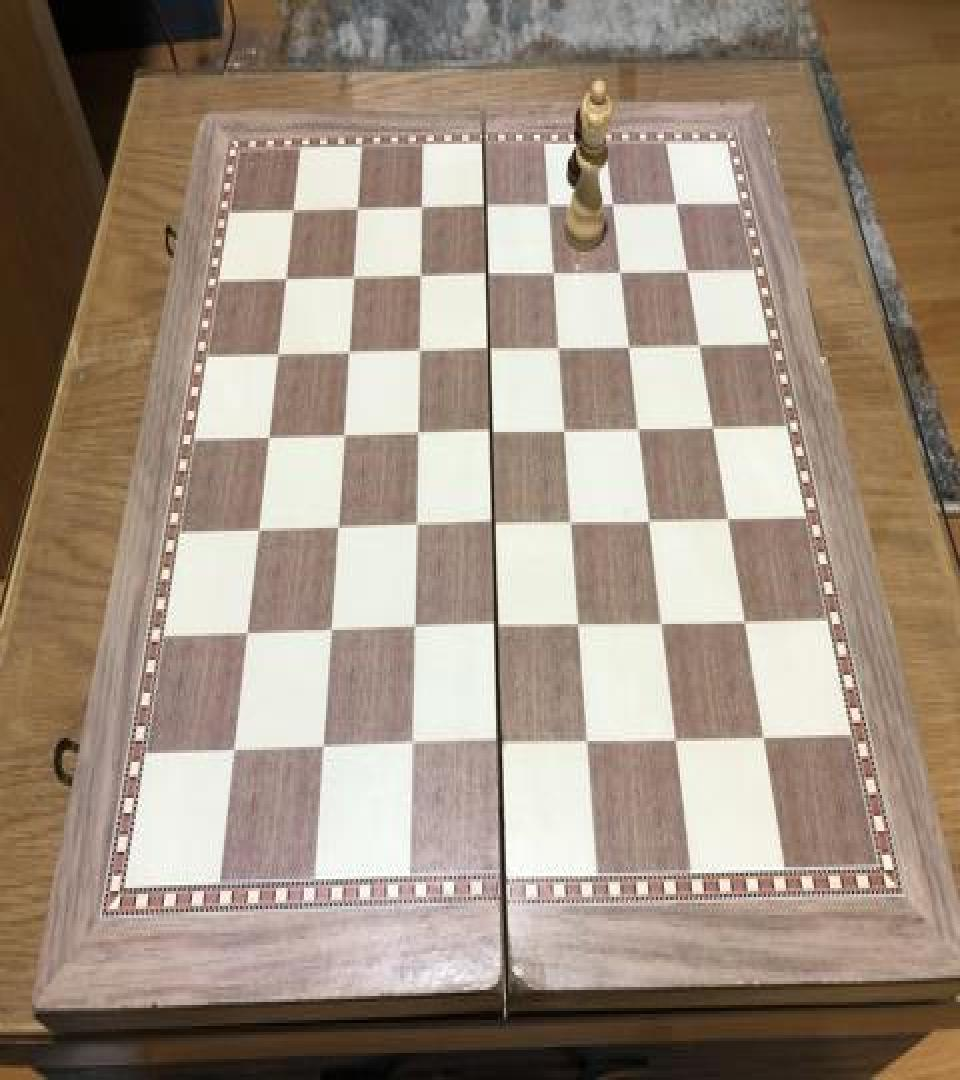xcorner: (319, 616, 343, 653), (749, 718, 773, 755), (664, 186, 688, 222), (537, 189, 561, 225), (473, 190, 497, 226), (409, 192, 433, 228), (345, 195, 369, 231), (281, 196, 305, 232), (675, 254, 699, 290), (608, 255, 632, 291), (542, 258, 566, 294), (408, 261, 432, 297), (341, 262, 365, 298), (274, 264, 298, 300), (617, 330, 641, 366), (547, 332, 571, 368), (477, 334, 501, 370), (407, 336, 431, 372), (336, 338, 360, 374), (266, 340, 290, 376), (700, 411, 724, 447), (553, 414, 577, 450), (479, 417, 503, 453), (405, 418, 429, 454), (331, 422, 355, 458), (257, 423, 281, 459), (714, 501, 738, 537), (637, 504, 661, 540), (559, 507, 583, 543), (481, 508, 505, 544), (403, 512, 427, 548), (325, 513, 349, 549), (247, 516, 271, 552), (731, 603, 755, 639), (649, 606, 673, 642), (566, 609, 590, 645), (484, 612, 508, 648), (402, 614, 426, 650), (236, 620, 260, 656), (662, 722, 686, 758), (574, 724, 598, 760), (487, 726, 511, 762), (399, 729, 423, 765), (312, 732, 336, 768), (224, 735, 248, 771), (601, 188, 625, 223), (475, 260, 499, 295), (687, 329, 711, 364), (626, 413, 650, 448)
